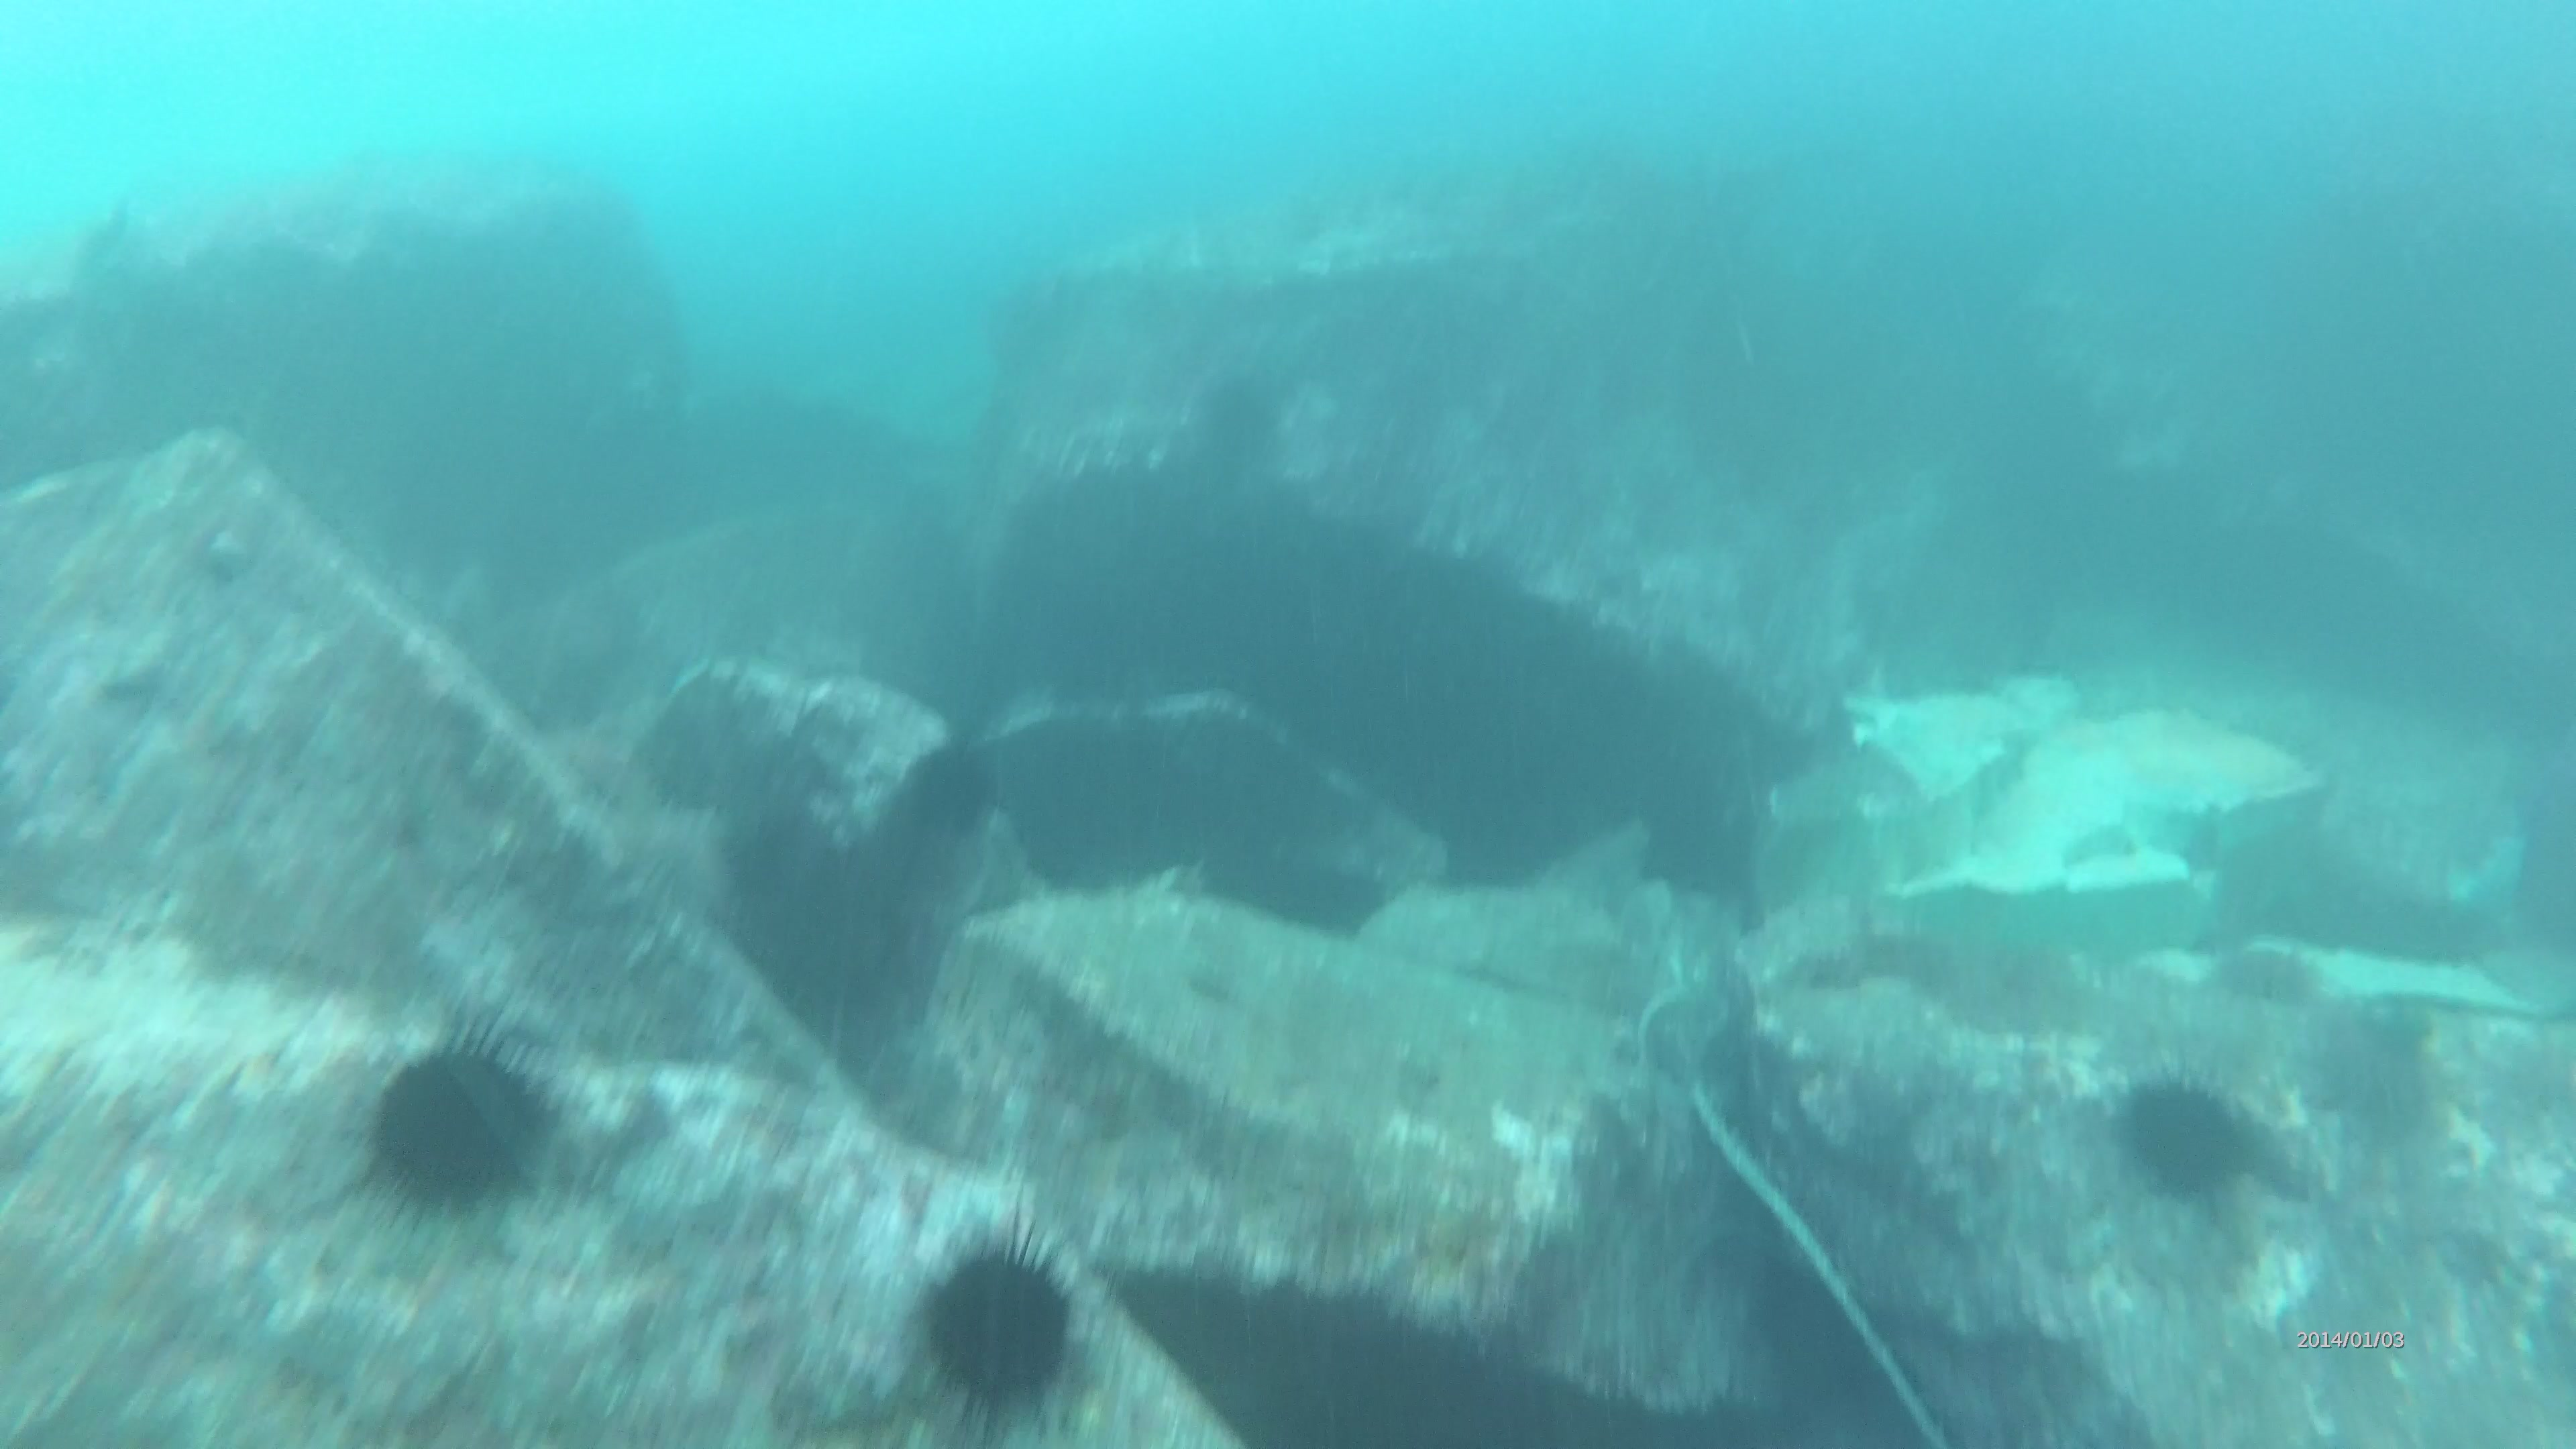echinus: (350, 1005, 575, 1235), (908, 1194, 1099, 1444), (2123, 1049, 2266, 1230)
